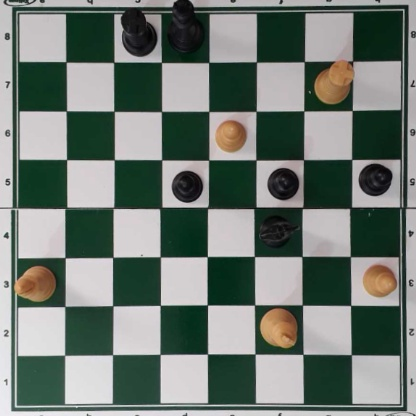black-king: (166, 1, 206, 55)
black-knight: (259, 212, 301, 249)
black-pawn: (357, 162, 392, 196), (170, 170, 204, 203), (267, 165, 299, 200)
black-rook: (118, 7, 159, 57)
white-bishop: (13, 264, 57, 304)
white-king: (257, 305, 299, 348)
white-pawn: (361, 262, 397, 298), (213, 117, 247, 153)
white-rook: (312, 58, 356, 105)
